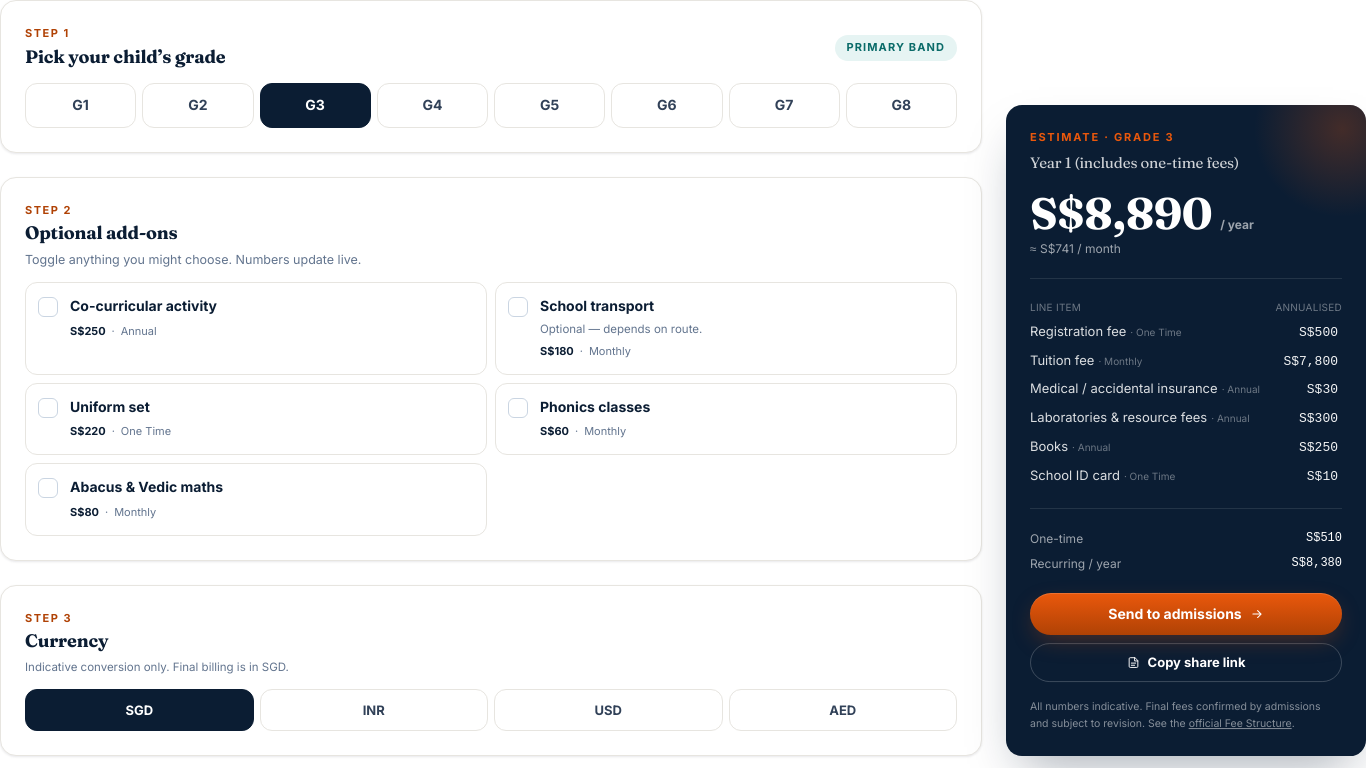
Test: FeeCalculator › currency switcher updates symbols
This screenshot has width=1366, height=768.
Click the button "USD" at (608, 710), box [494, 688, 722, 731]
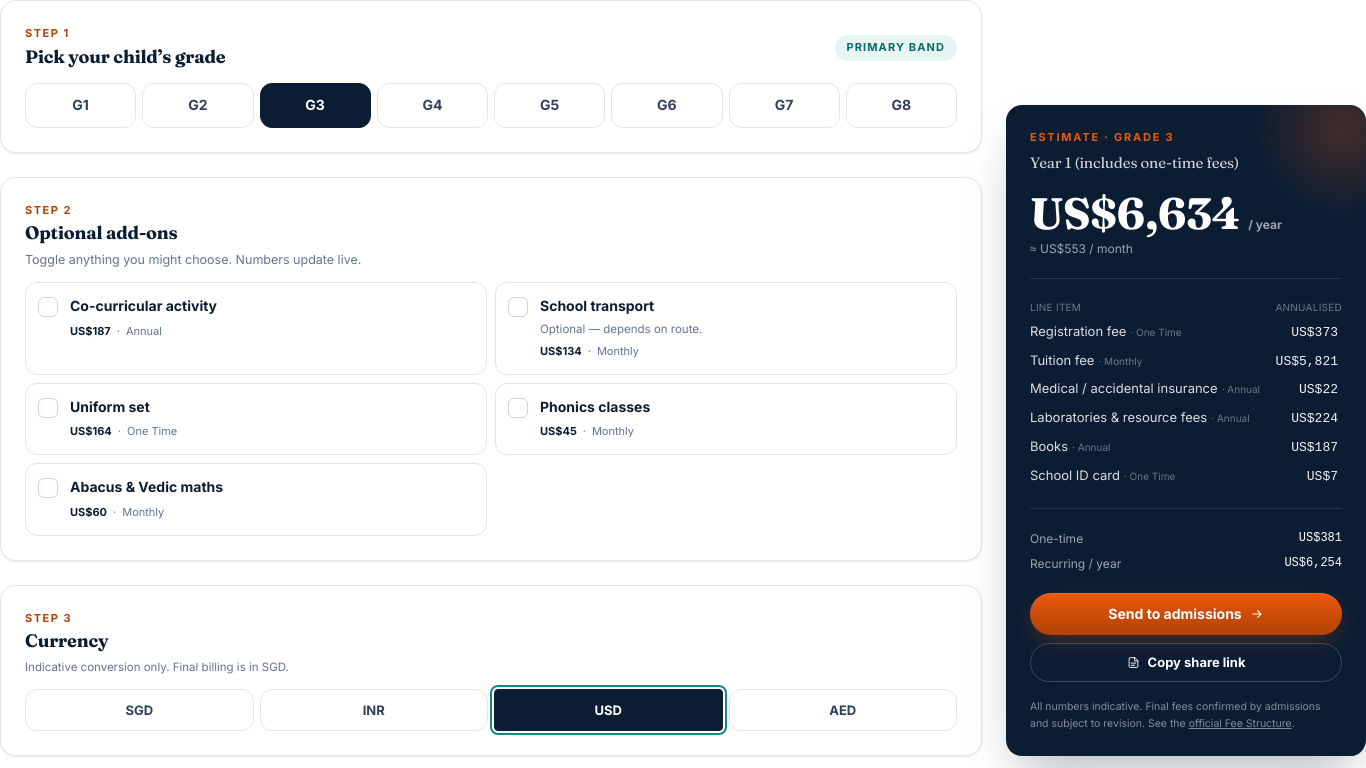
Check: the text "US$187" below "Optional add-ons" is shown, box [70, 324, 111, 338]
